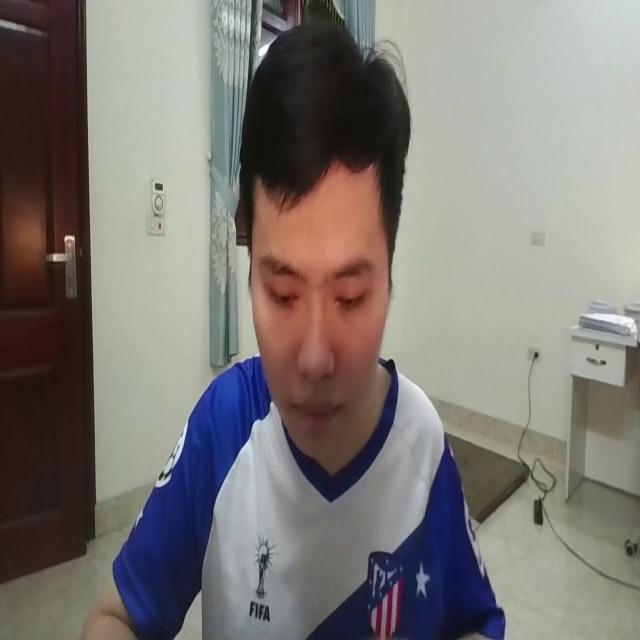student: (87, 4, 517, 640)
